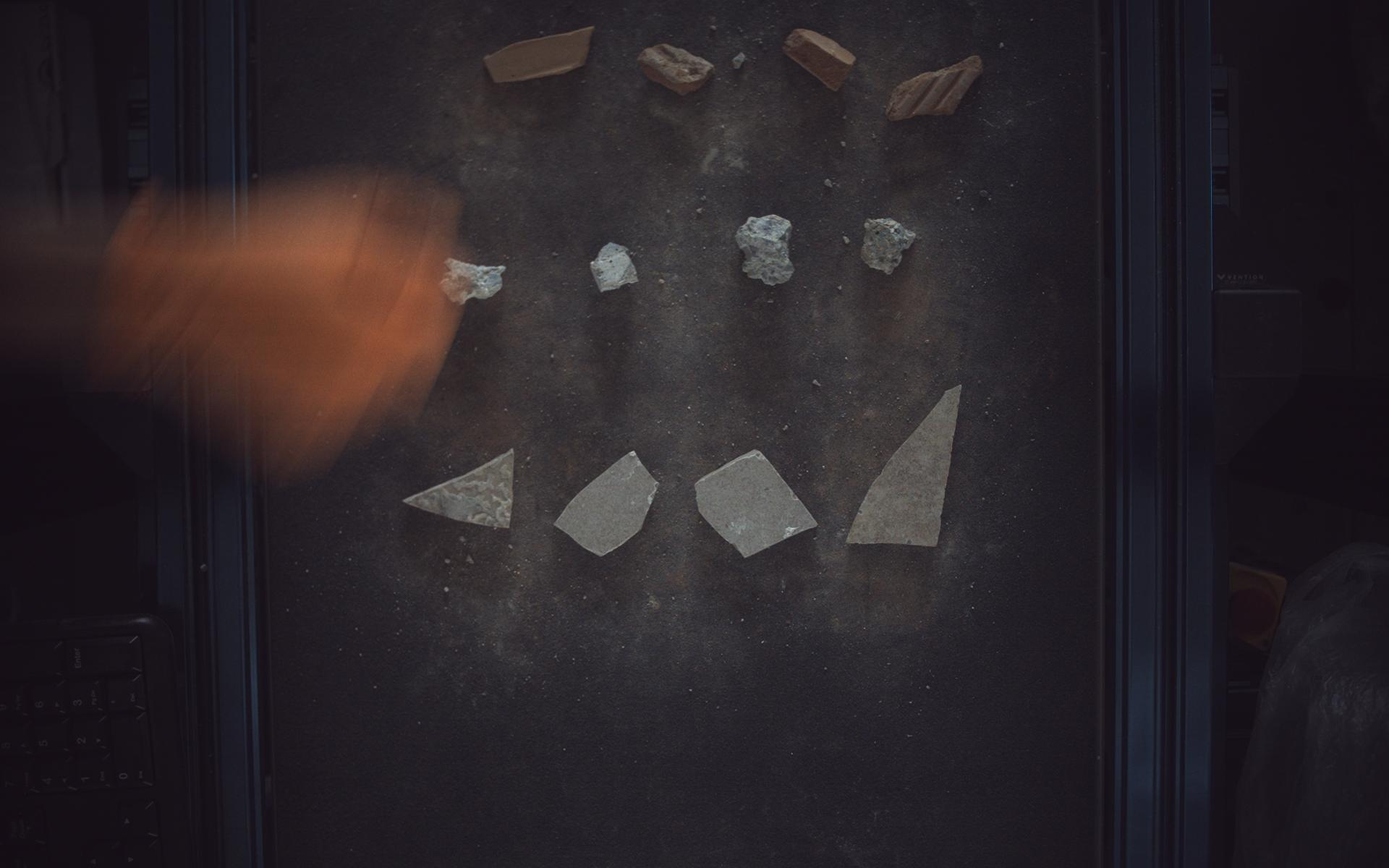brick: (887, 54, 985, 120), (485, 25, 594, 82), (785, 27, 857, 90), (639, 42, 715, 94)
concrete: (736, 213, 795, 285), (440, 258, 506, 305), (863, 218, 918, 274), (591, 242, 639, 292)
tile: (848, 385, 964, 547), (696, 450, 818, 558), (555, 451, 658, 556), (403, 448, 513, 529)
